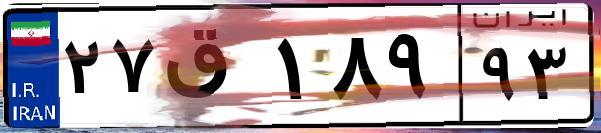1: (270, 28, 330, 110)
2: (57, 26, 110, 100)
3: (525, 38, 570, 115)
7: (110, 28, 158, 98)
8: (330, 28, 385, 110)
9: (385, 28, 445, 110), (475, 38, 525, 113)
ق: (158, 20, 270, 120)
